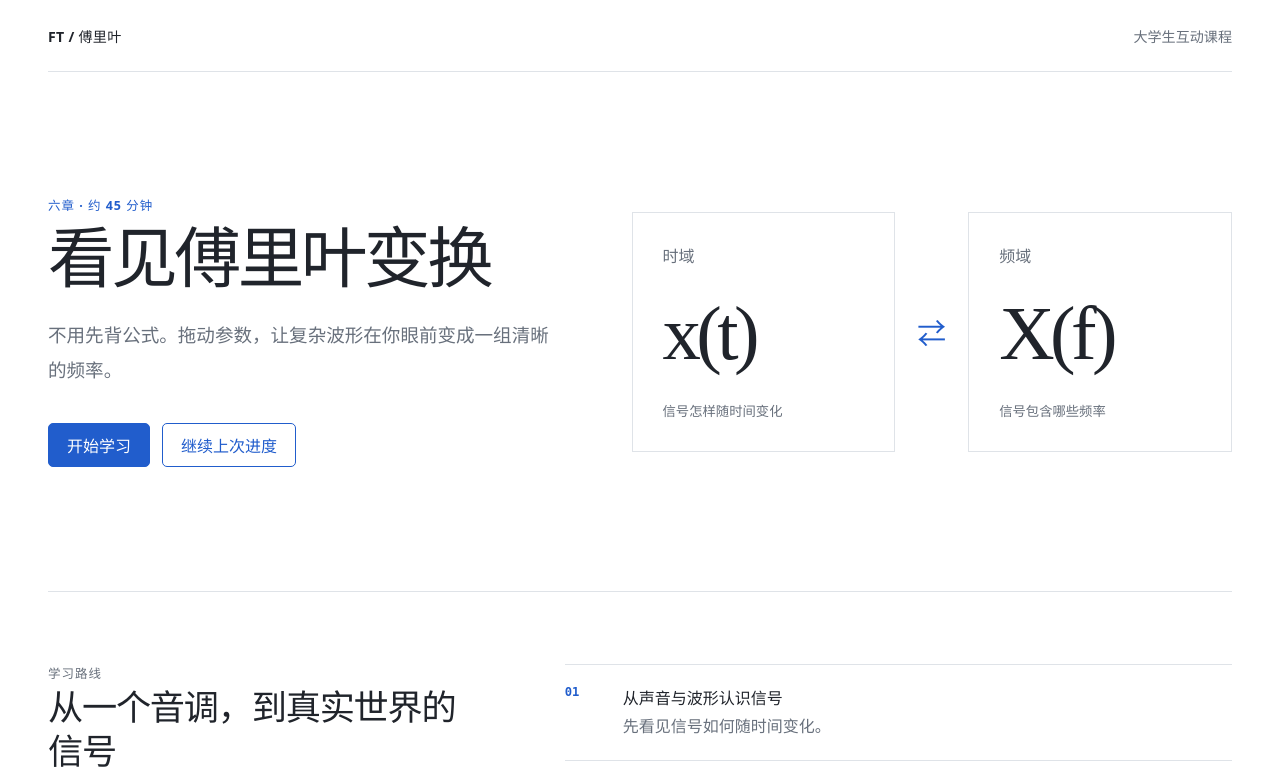
Test: App › 从首页进入第一章并显示完整课程导航
Click the button "开始学习" at (99, 445), box [48,423,150,467]
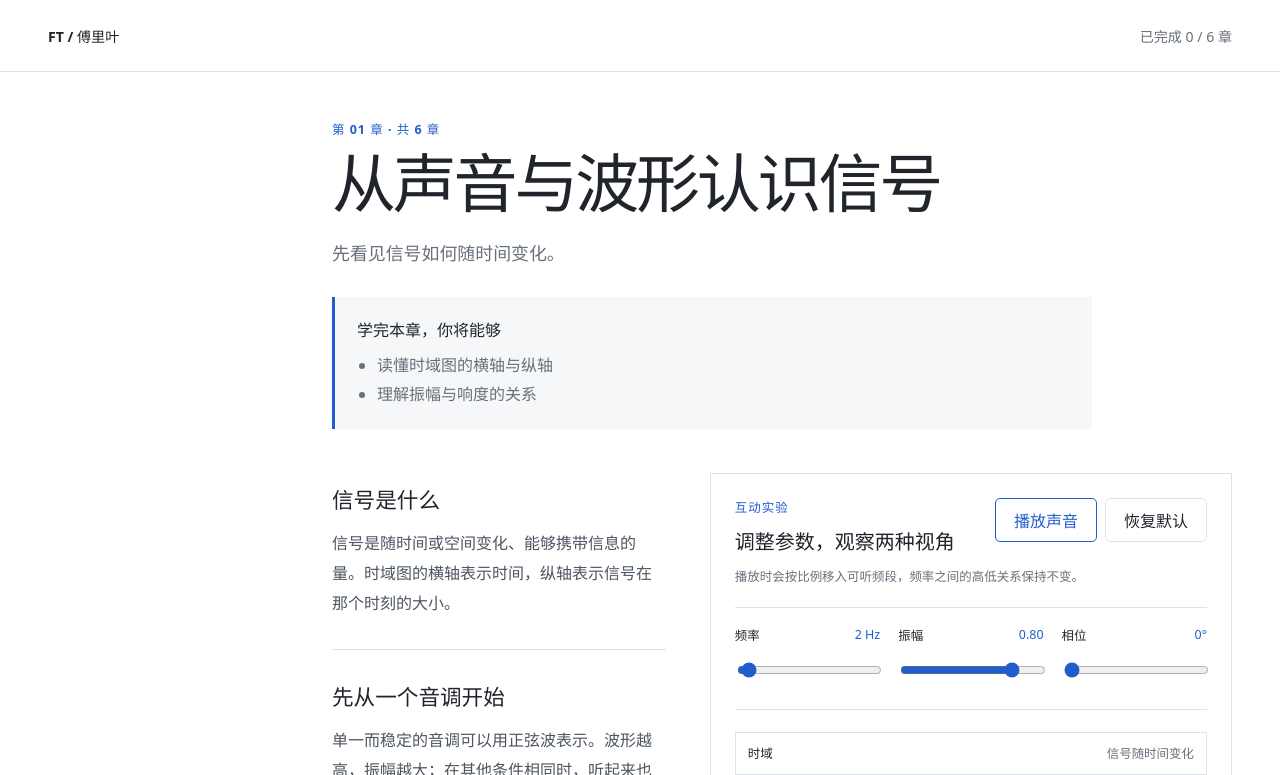
expect the heading "从声音与波形认识信号" is shown: met, box [332,139,940,226]
